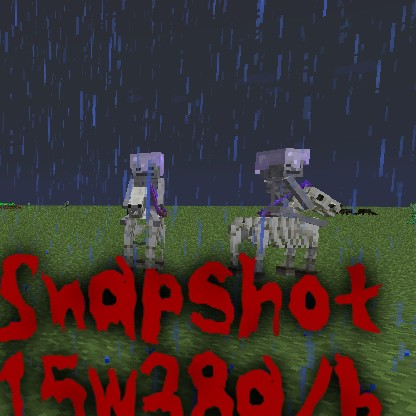skeleton: (123, 149, 180, 203)
